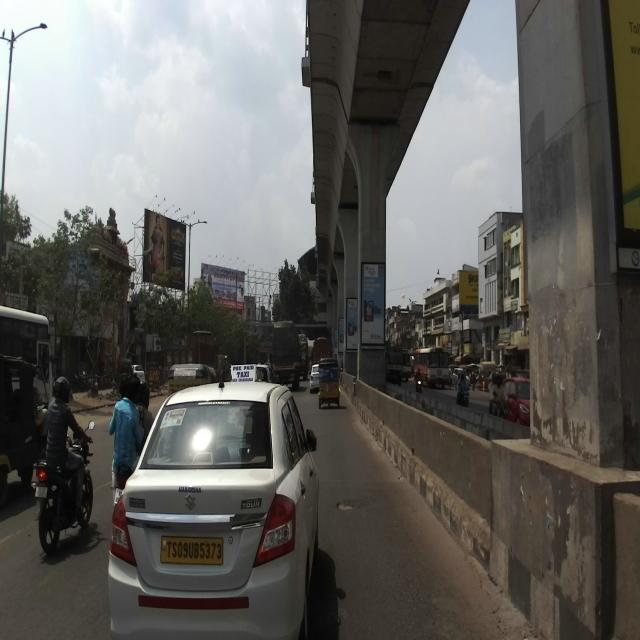autorickshaw: (0, 353, 51, 504)
car: (108, 364, 318, 639)
motorcycle: (31, 418, 96, 555)
